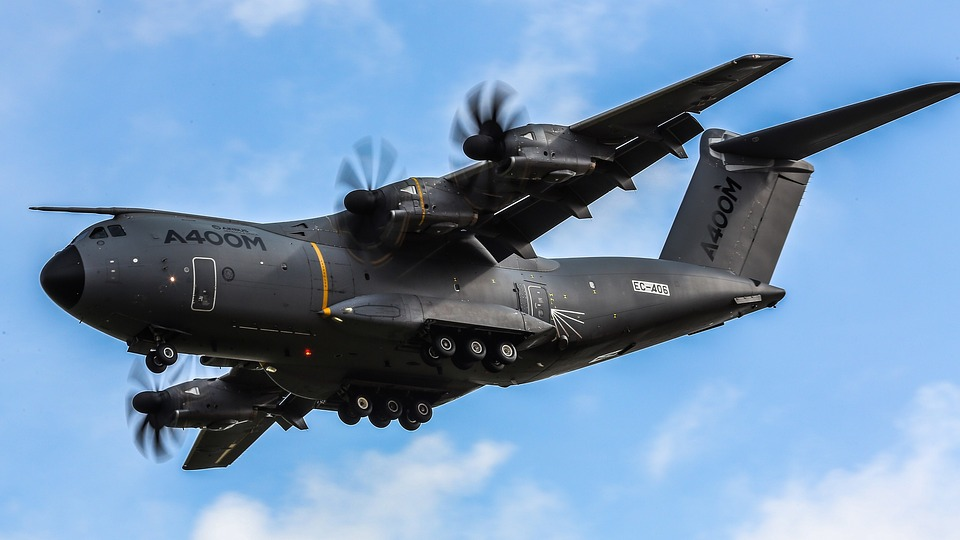Aeronef_militaire: (25, 50, 960, 478)
